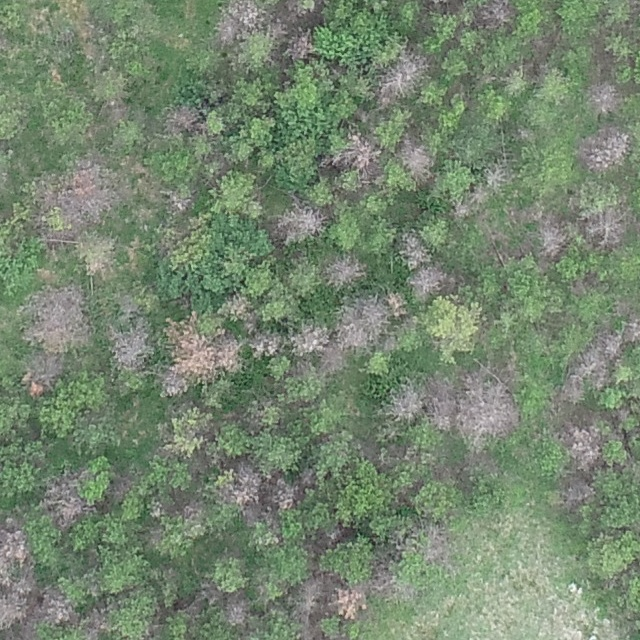unhealthy: (36, 154, 120, 233), (459, 371, 520, 444), (24, 283, 90, 349), (163, 317, 217, 381), (571, 327, 621, 389), (376, 47, 427, 105), (334, 293, 385, 350), (576, 124, 631, 172), (40, 475, 85, 528), (271, 201, 325, 243), (581, 204, 627, 251), (333, 132, 382, 174), (107, 325, 152, 370), (215, 0, 260, 44), (20, 351, 63, 396), (561, 423, 602, 469), (425, 376, 455, 435), (396, 134, 435, 178), (408, 263, 451, 300), (226, 464, 262, 507), (323, 253, 368, 287), (536, 211, 567, 260), (40, 589, 76, 627), (388, 383, 423, 421), (580, 79, 618, 114), (292, 323, 330, 357), (398, 226, 430, 265), (162, 102, 202, 133), (215, 334, 244, 374), (560, 475, 595, 508), (475, 0, 516, 28), (333, 585, 366, 619), (158, 364, 189, 399), (220, 290, 254, 321), (424, 523, 450, 561), (269, 477, 298, 511), (0, 592, 27, 628), (453, 185, 486, 214), (250, 330, 284, 358), (298, 573, 329, 602), (224, 595, 250, 629), (287, 32, 315, 63), (83, 603, 109, 636), (101, 98, 131, 124), (481, 161, 510, 186), (384, 290, 407, 317), (623, 314, 640, 346), (266, 19, 288, 41), (240, 504, 259, 526)
